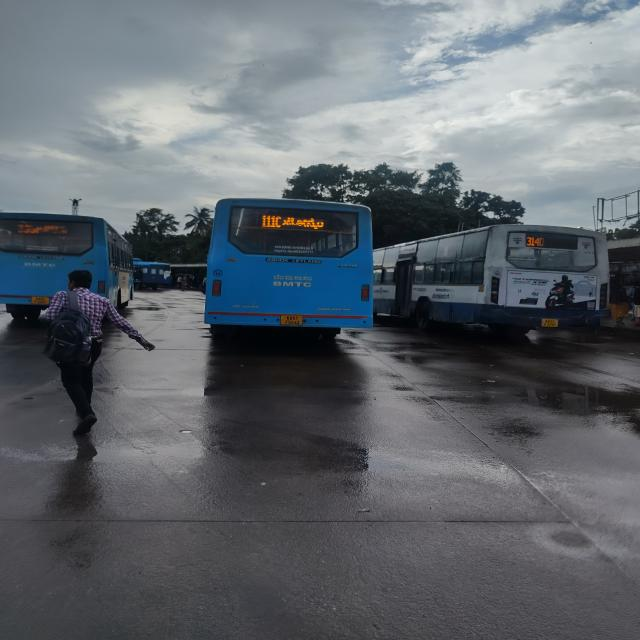bus: (378, 221, 623, 349), (210, 194, 378, 340), (0, 196, 136, 323)
display: (247, 207, 348, 236), (17, 214, 83, 240), (520, 232, 581, 250)
dnumber: (258, 206, 286, 234), (525, 232, 548, 250), (20, 220, 42, 236)
